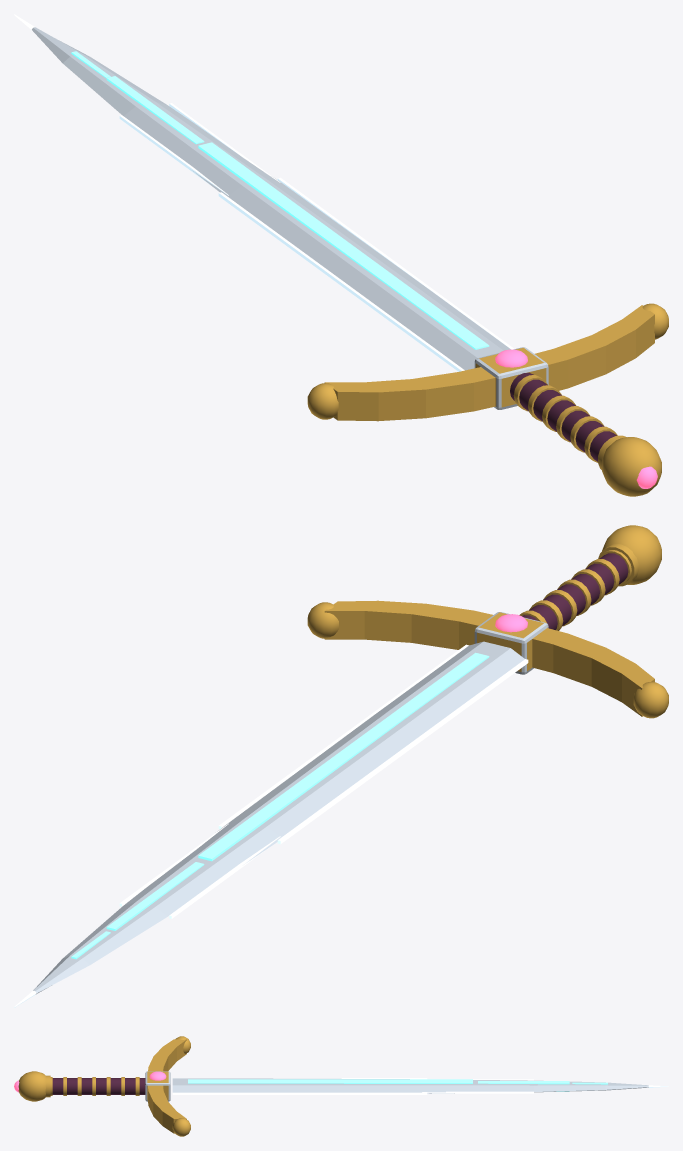
File: sword.glb
3 renders of one model, top to bottom at view 1: azimuth 30°, elevation 25°; view 2: azimuth 150°, elevation 25°; view 3: azimuth 270°, elevation 25°, orthographic. The views are drawn at different scales.
Visible parts, largest first — view 1: body; view 2: body; view 3: body.
Part boxes in pixels (box(x1,y1,x2,y2)): body: box(14, 14, 668, 496); body: box(14, 525, 668, 1007); body: box(18, 1036, 668, 1136).
Size of the model in its own units: 0.4152 by 0.06 by 1.29.
